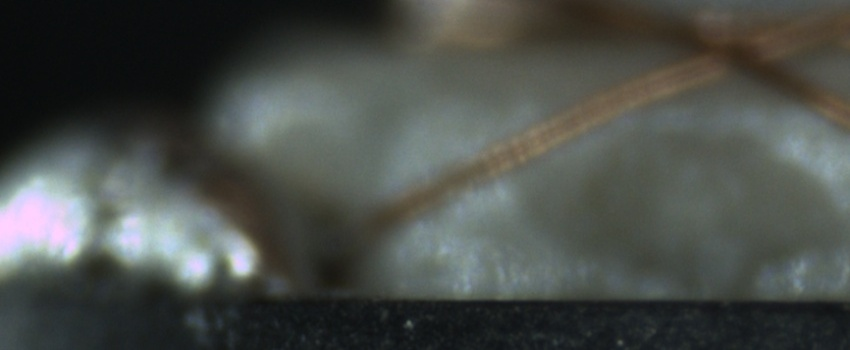DL: (411, 86, 850, 150)
